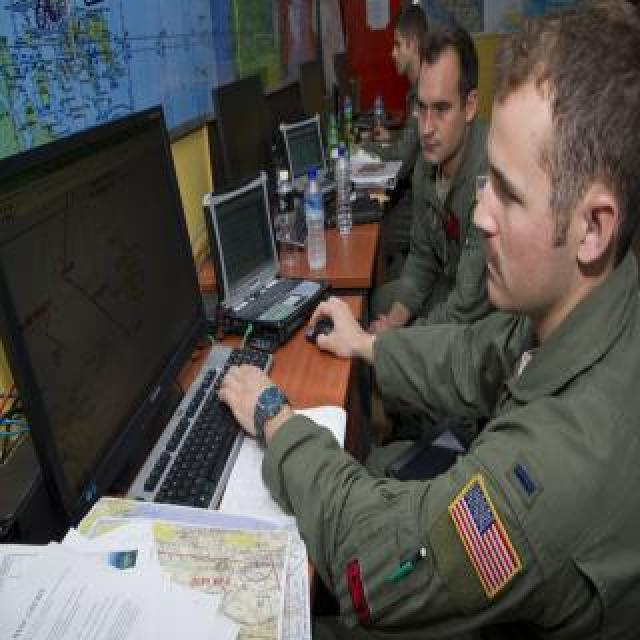laptop_computer: (0, 101, 264, 523), (193, 176, 375, 364), (274, 112, 360, 206)
